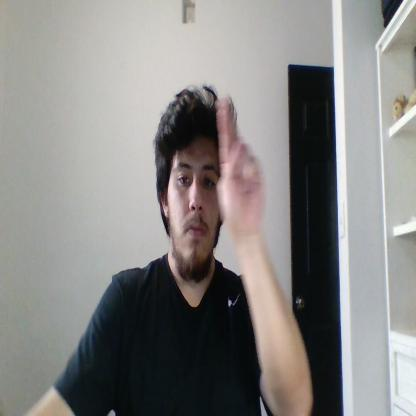R: (219, 97, 263, 239)
